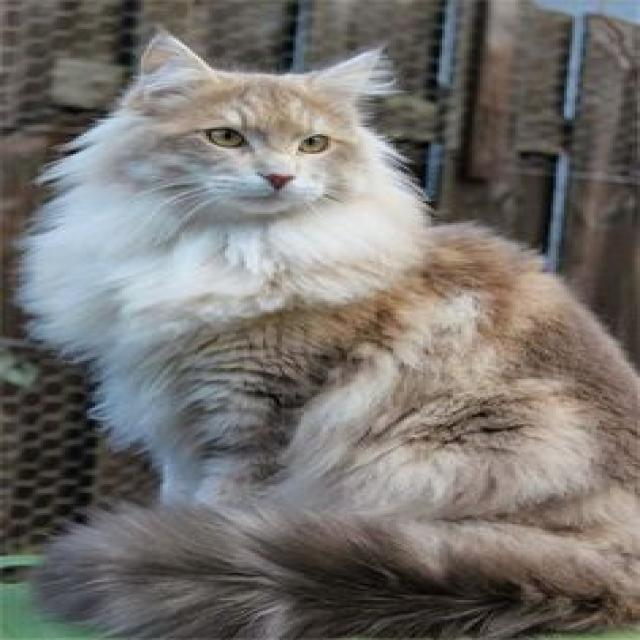da khoe manh: (128, 245, 596, 536)
